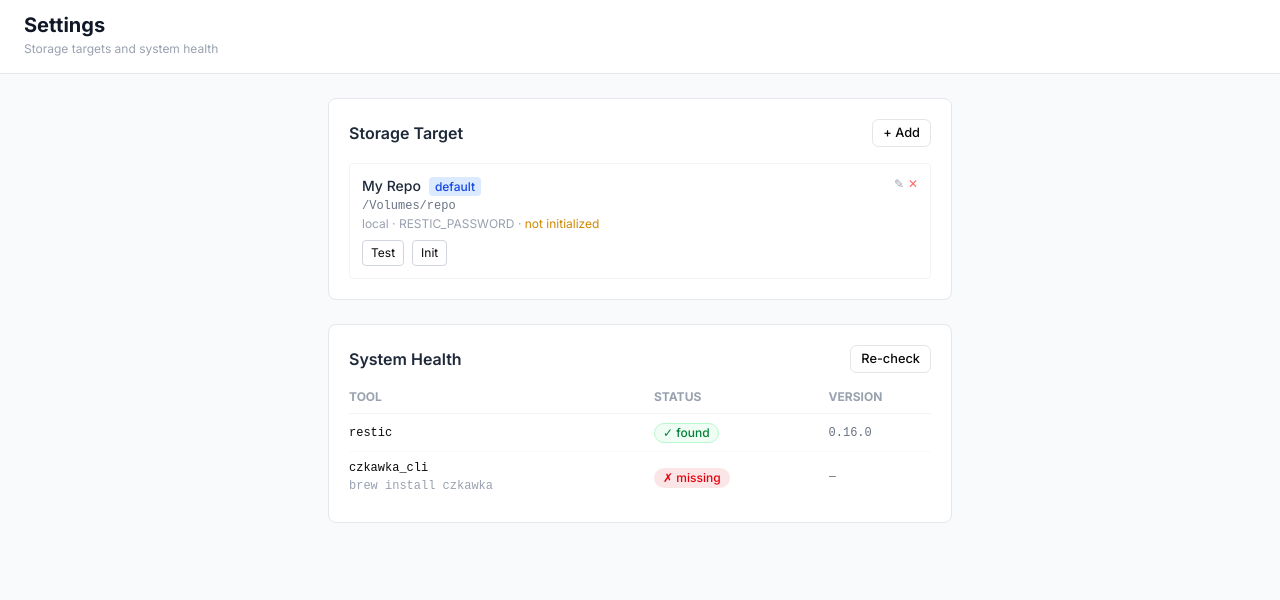
Test: Settings page › shows failed test result
The width and height of the screenshot is (1280, 600).
Click the button "Test" at x=383, y=253, box [362,240,404,266]
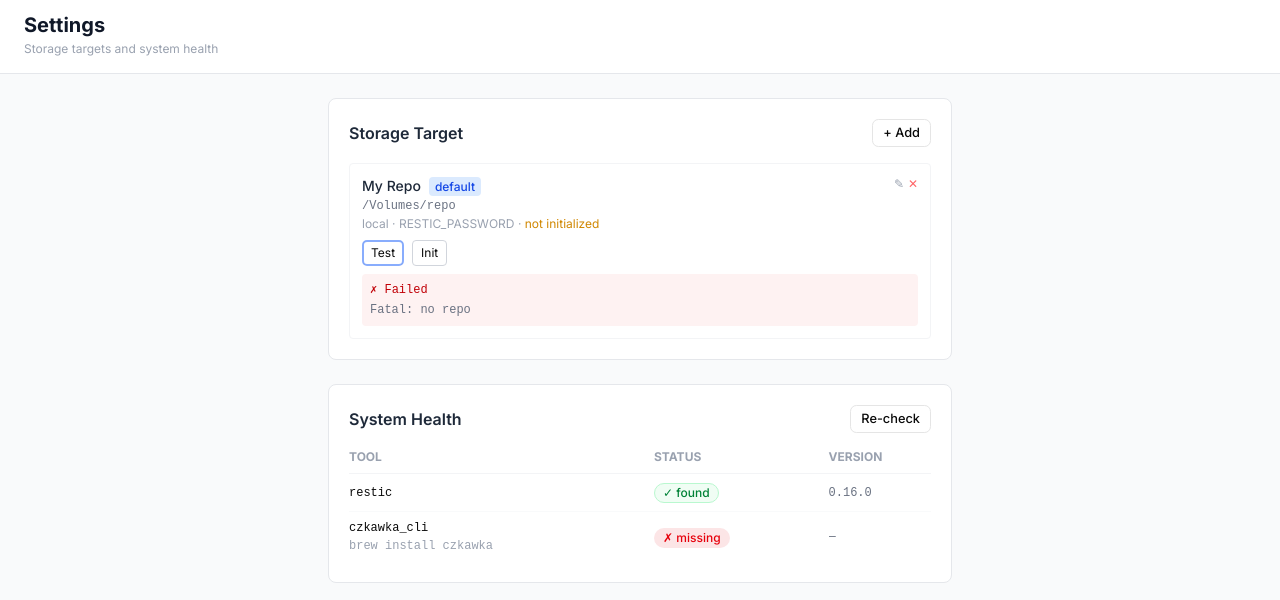
Expected: the text "✗ Failed Fatal: no repo" is shown, [362,274,918,326]
